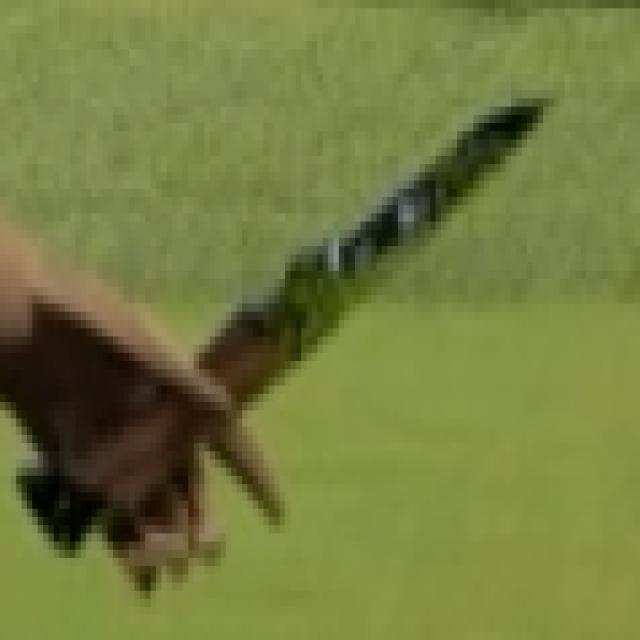Fknife: (45, 81, 564, 541)
